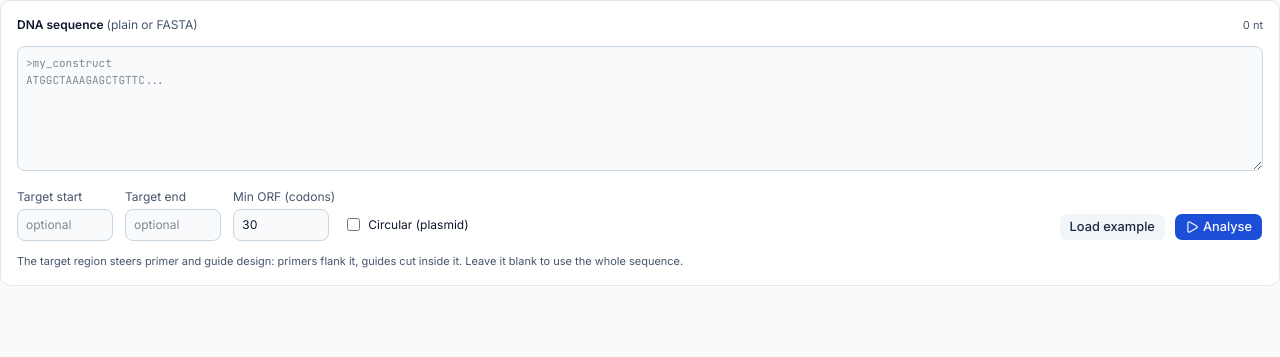
ToolsView › shows the backend's reason when a sequence is rejected
Type "MKVLAAGIW" into the text box labelled "DNA sequence (plain or FASTA)" at (640, 108), box [17,46,1263,171]
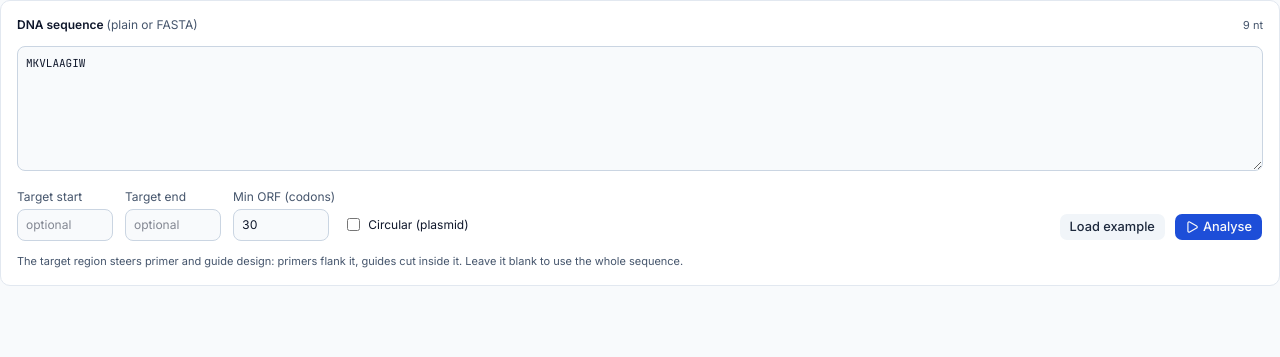
Click the button "Analyse" at (1218, 227), box [1174,213,1263,241]
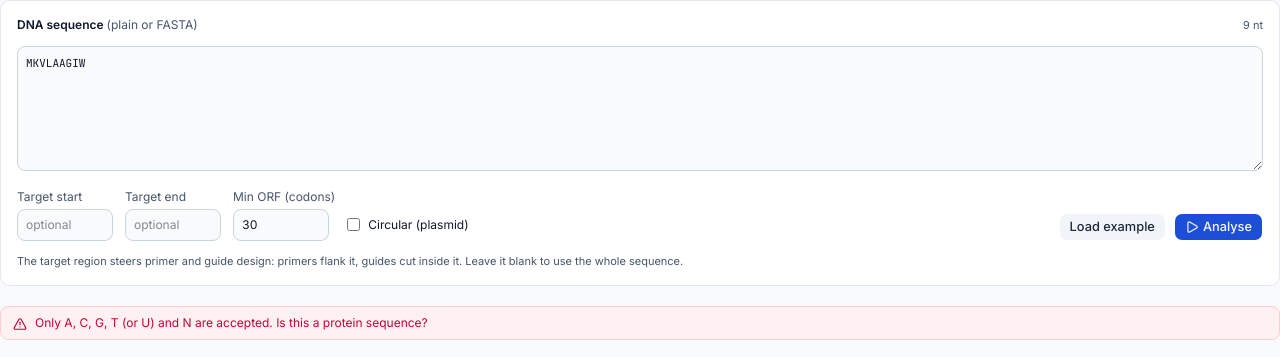
Result: the message shows "protein sequence" at [35,315,428,330]
